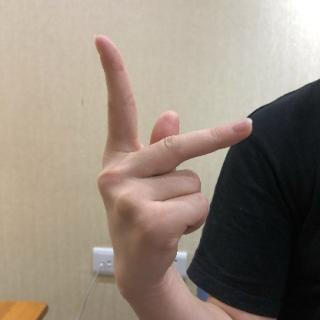DHAA: (93, 29, 260, 290)
